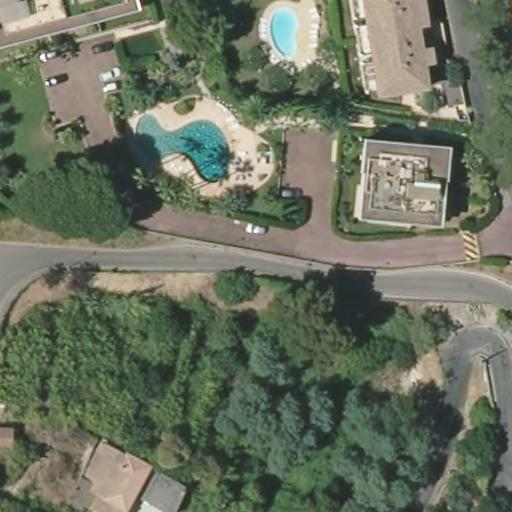pool: (135, 112, 234, 183), (268, 5, 305, 60)
